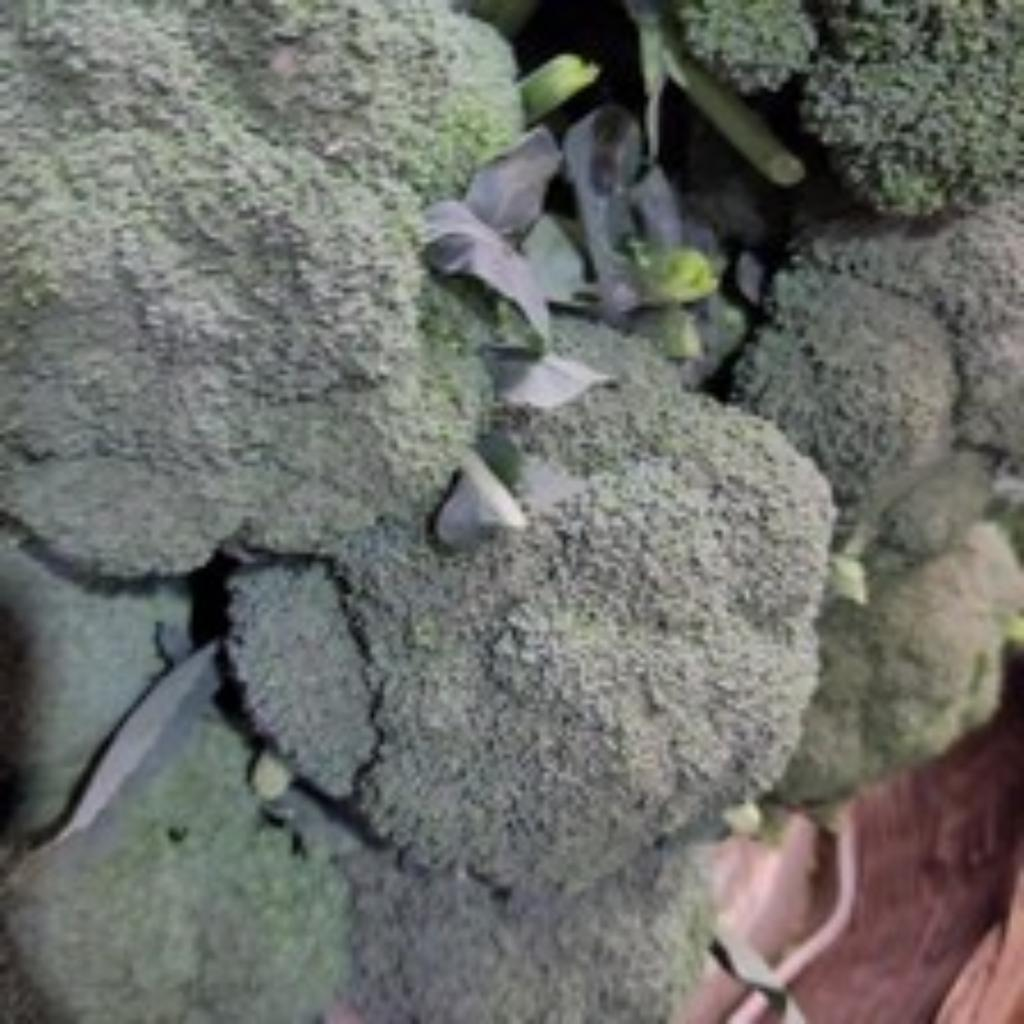Broccoli: (228, 320, 832, 885), (228, 320, 832, 885), (0, 0, 520, 577), (0, 0, 520, 577), (10, 708, 350, 1024), (10, 708, 350, 1024), (676, 0, 1024, 213), (676, 0, 1024, 213), (340, 830, 709, 1024), (776, 520, 1024, 802), (776, 522, 1024, 802), (344, 848, 696, 1024), (736, 264, 958, 523), (736, 264, 958, 523)
